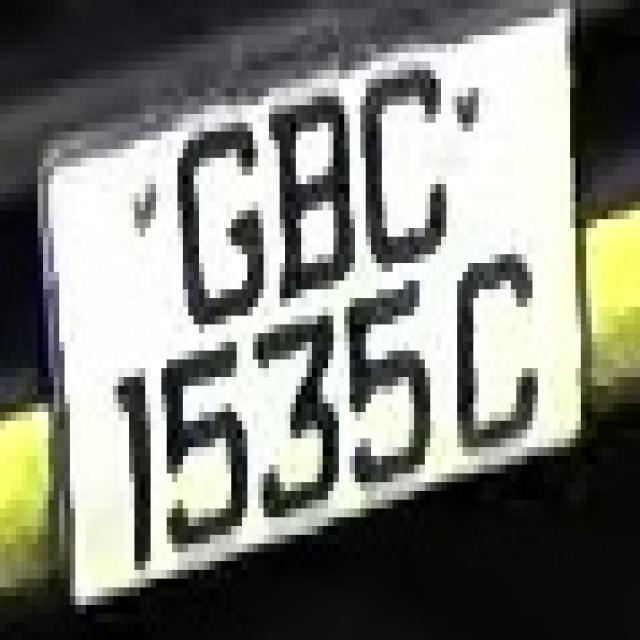1: (113, 324, 167, 596)
3: (220, 272, 334, 552)
5: (344, 246, 452, 500), (150, 324, 252, 544)
B: (274, 87, 360, 316)
C: (441, 228, 538, 473), (360, 70, 452, 298)
G: (161, 96, 269, 342)
